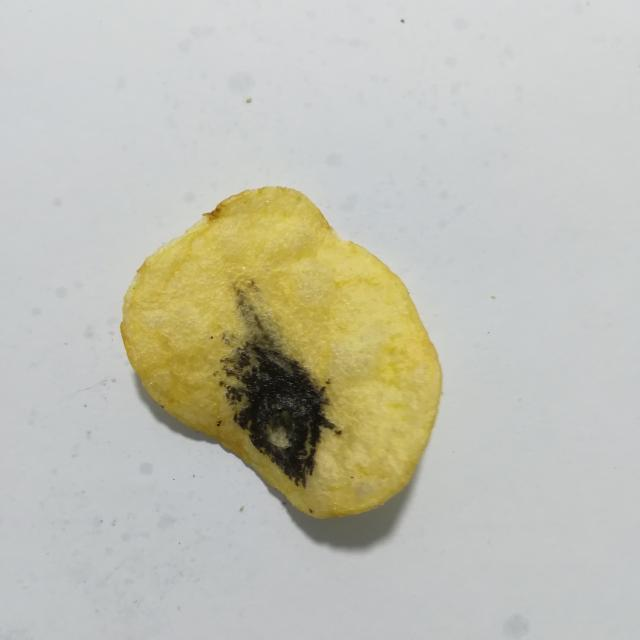chip: (121, 187, 442, 518)
damaged: (223, 289, 340, 487)
